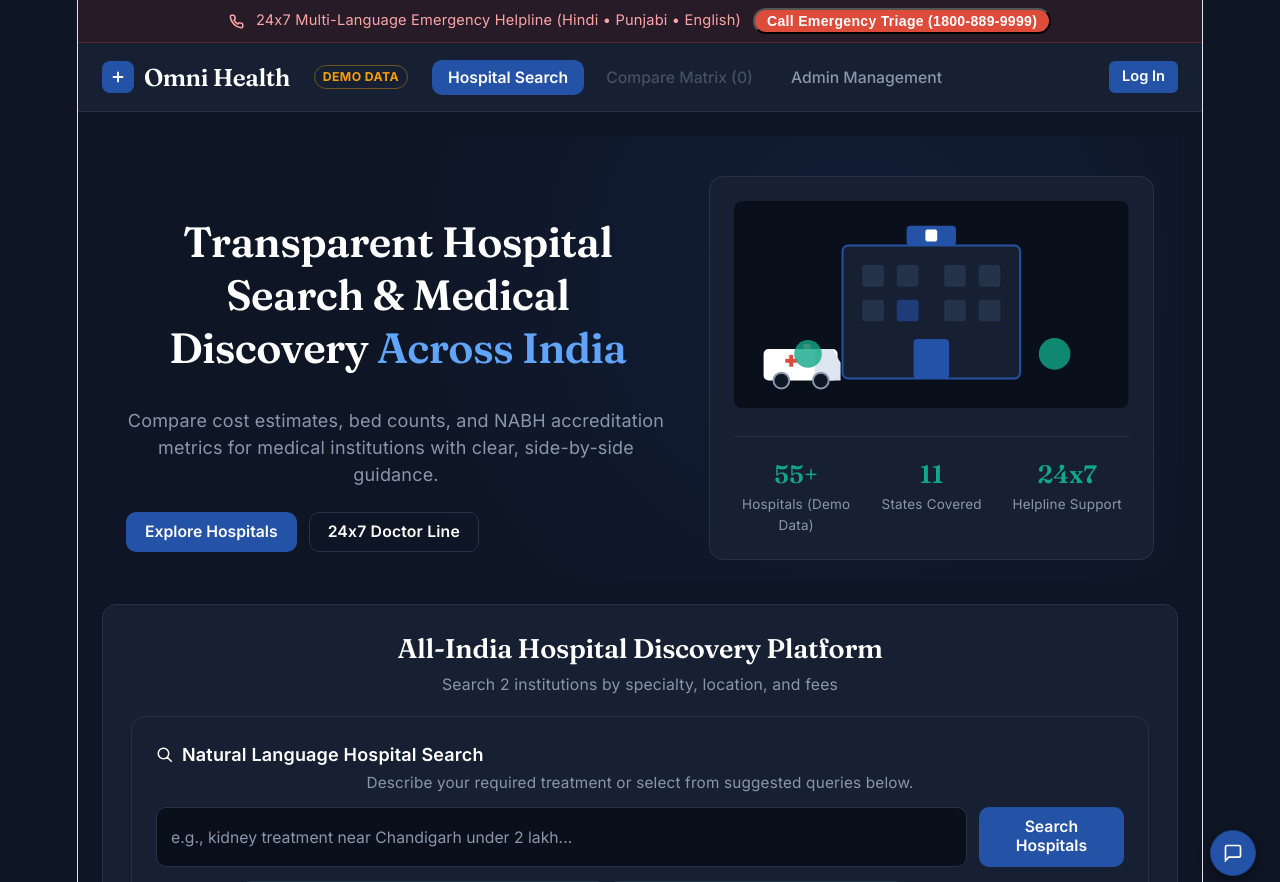
Test: Admin gating › admin page requires login
What coordinates should you click on to do the following:
click the tab "Admin Management"
I would click on:
 (867, 77)
Its box is [775,60,958,95].
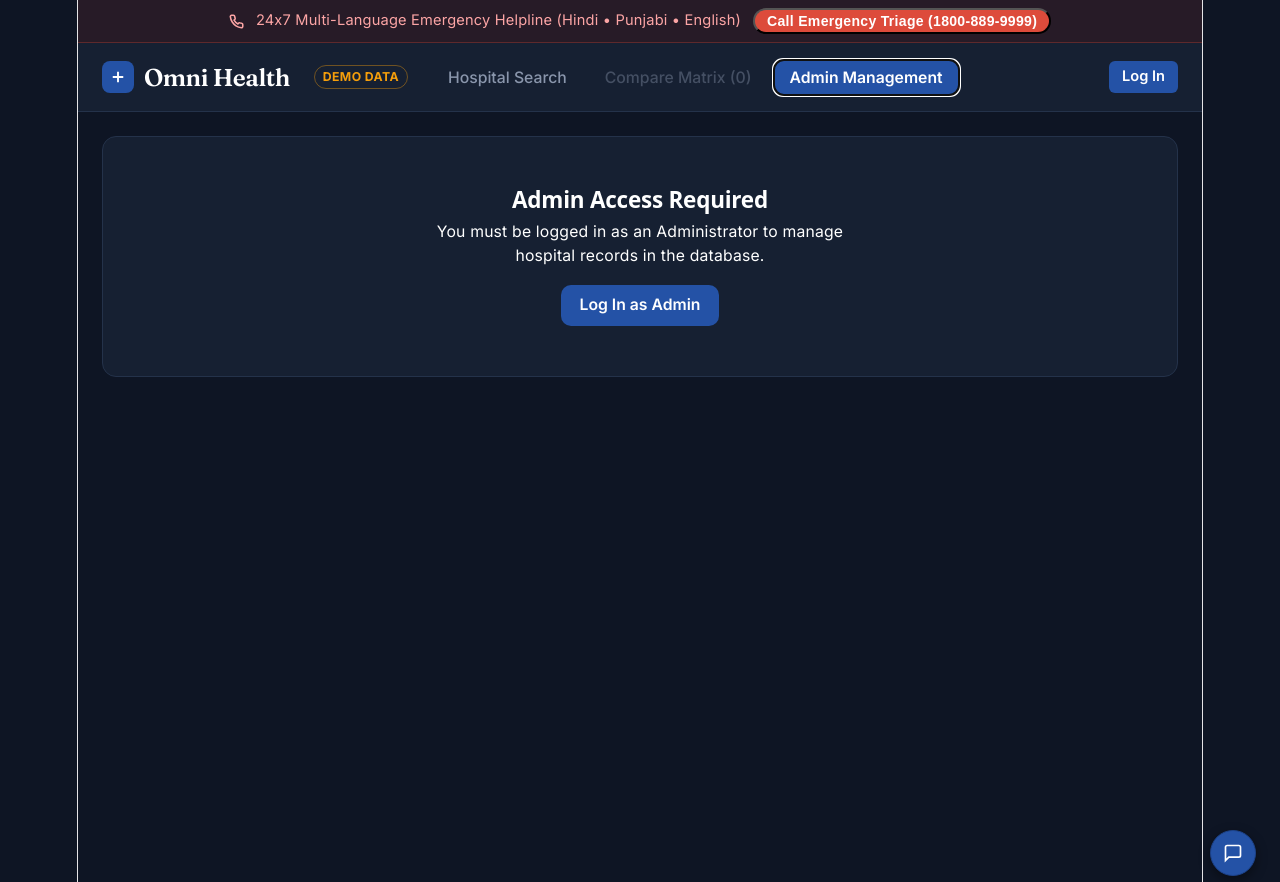
Expected: the heading "Admin Access Required" is shown, [512,184,768,215]
